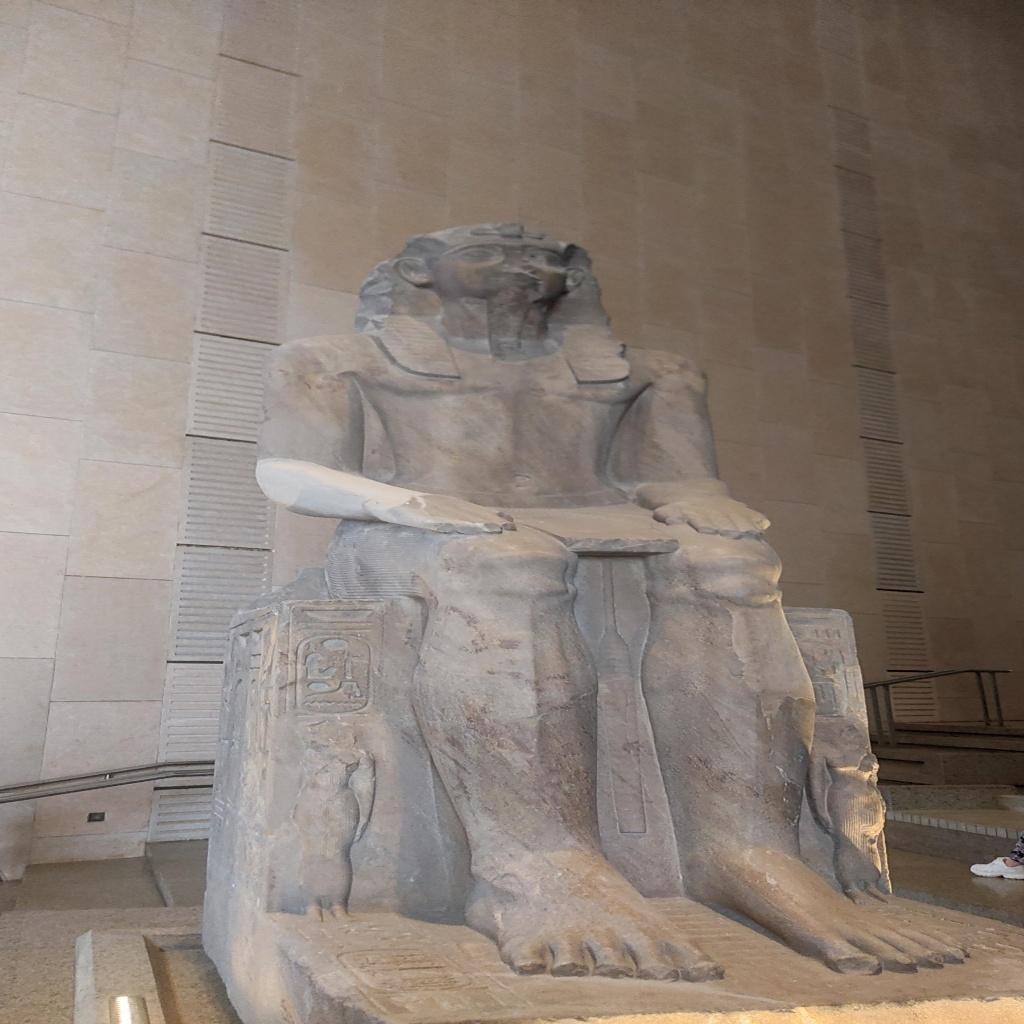Colossal Statue of Middle Kingdom King: (208, 219, 982, 989)
